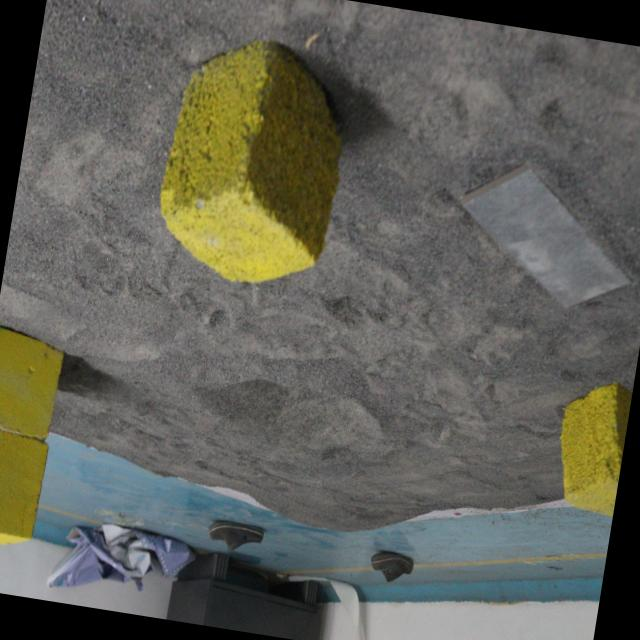box: (148, 27, 360, 286), (0, 326, 67, 547), (547, 372, 634, 522)
crater: (182, 351, 396, 470)
